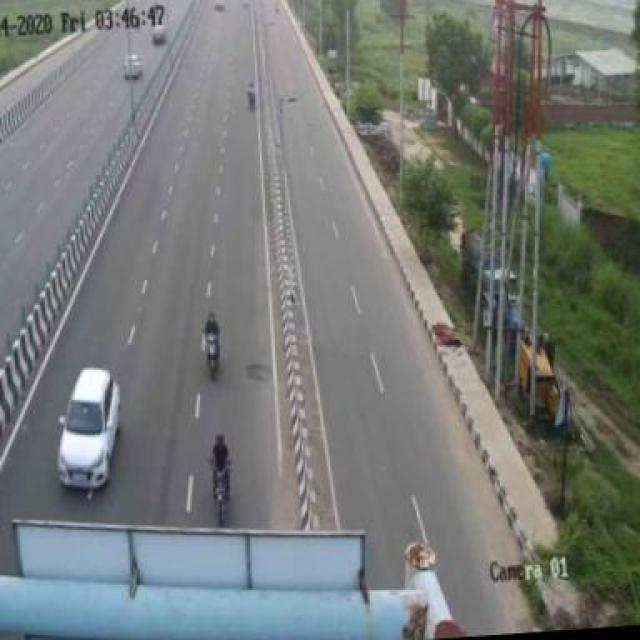car: (48, 360, 128, 497)
